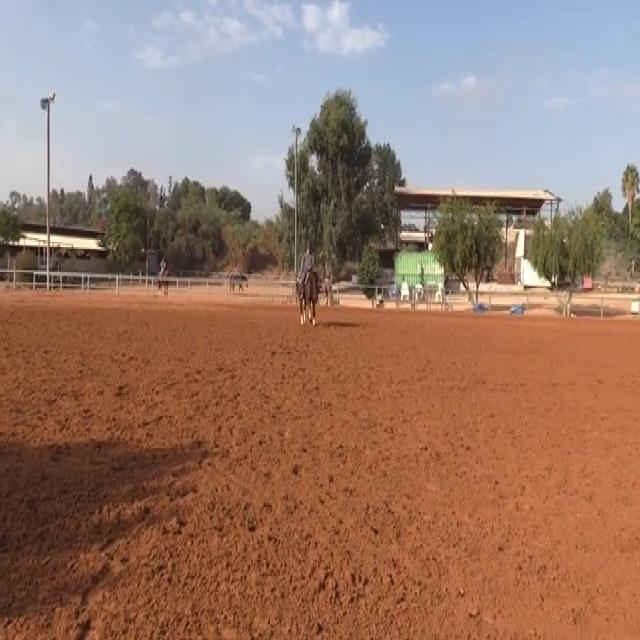horse: (293, 265, 320, 327)
